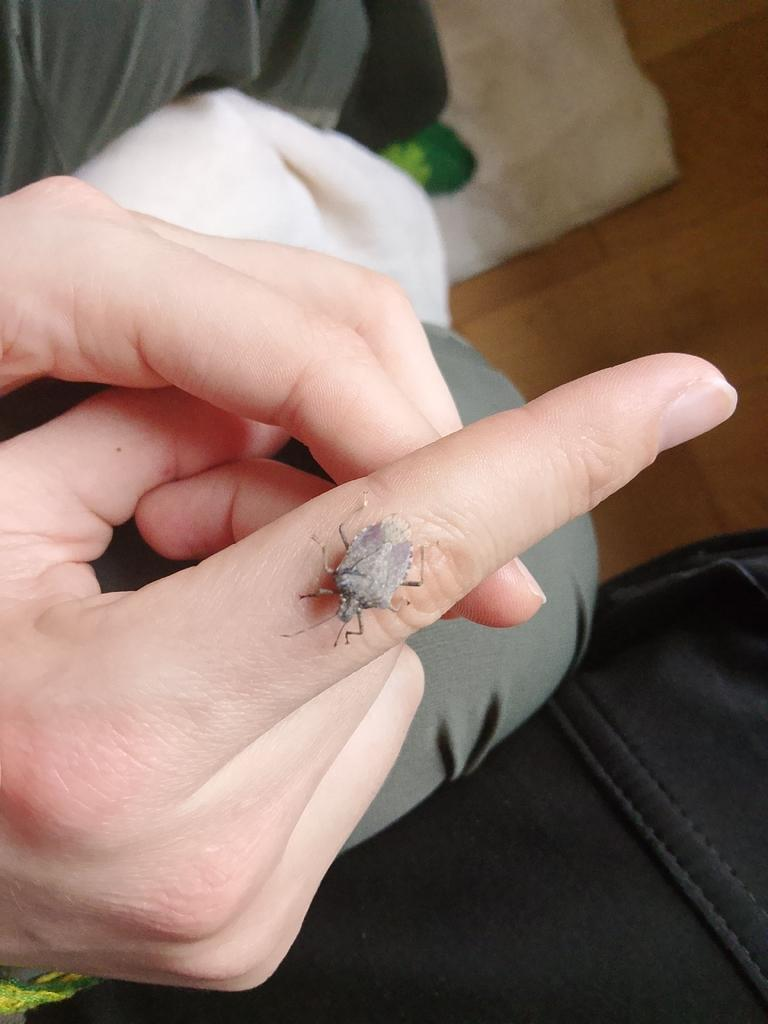stink_bugs: (246, 466, 482, 691)
